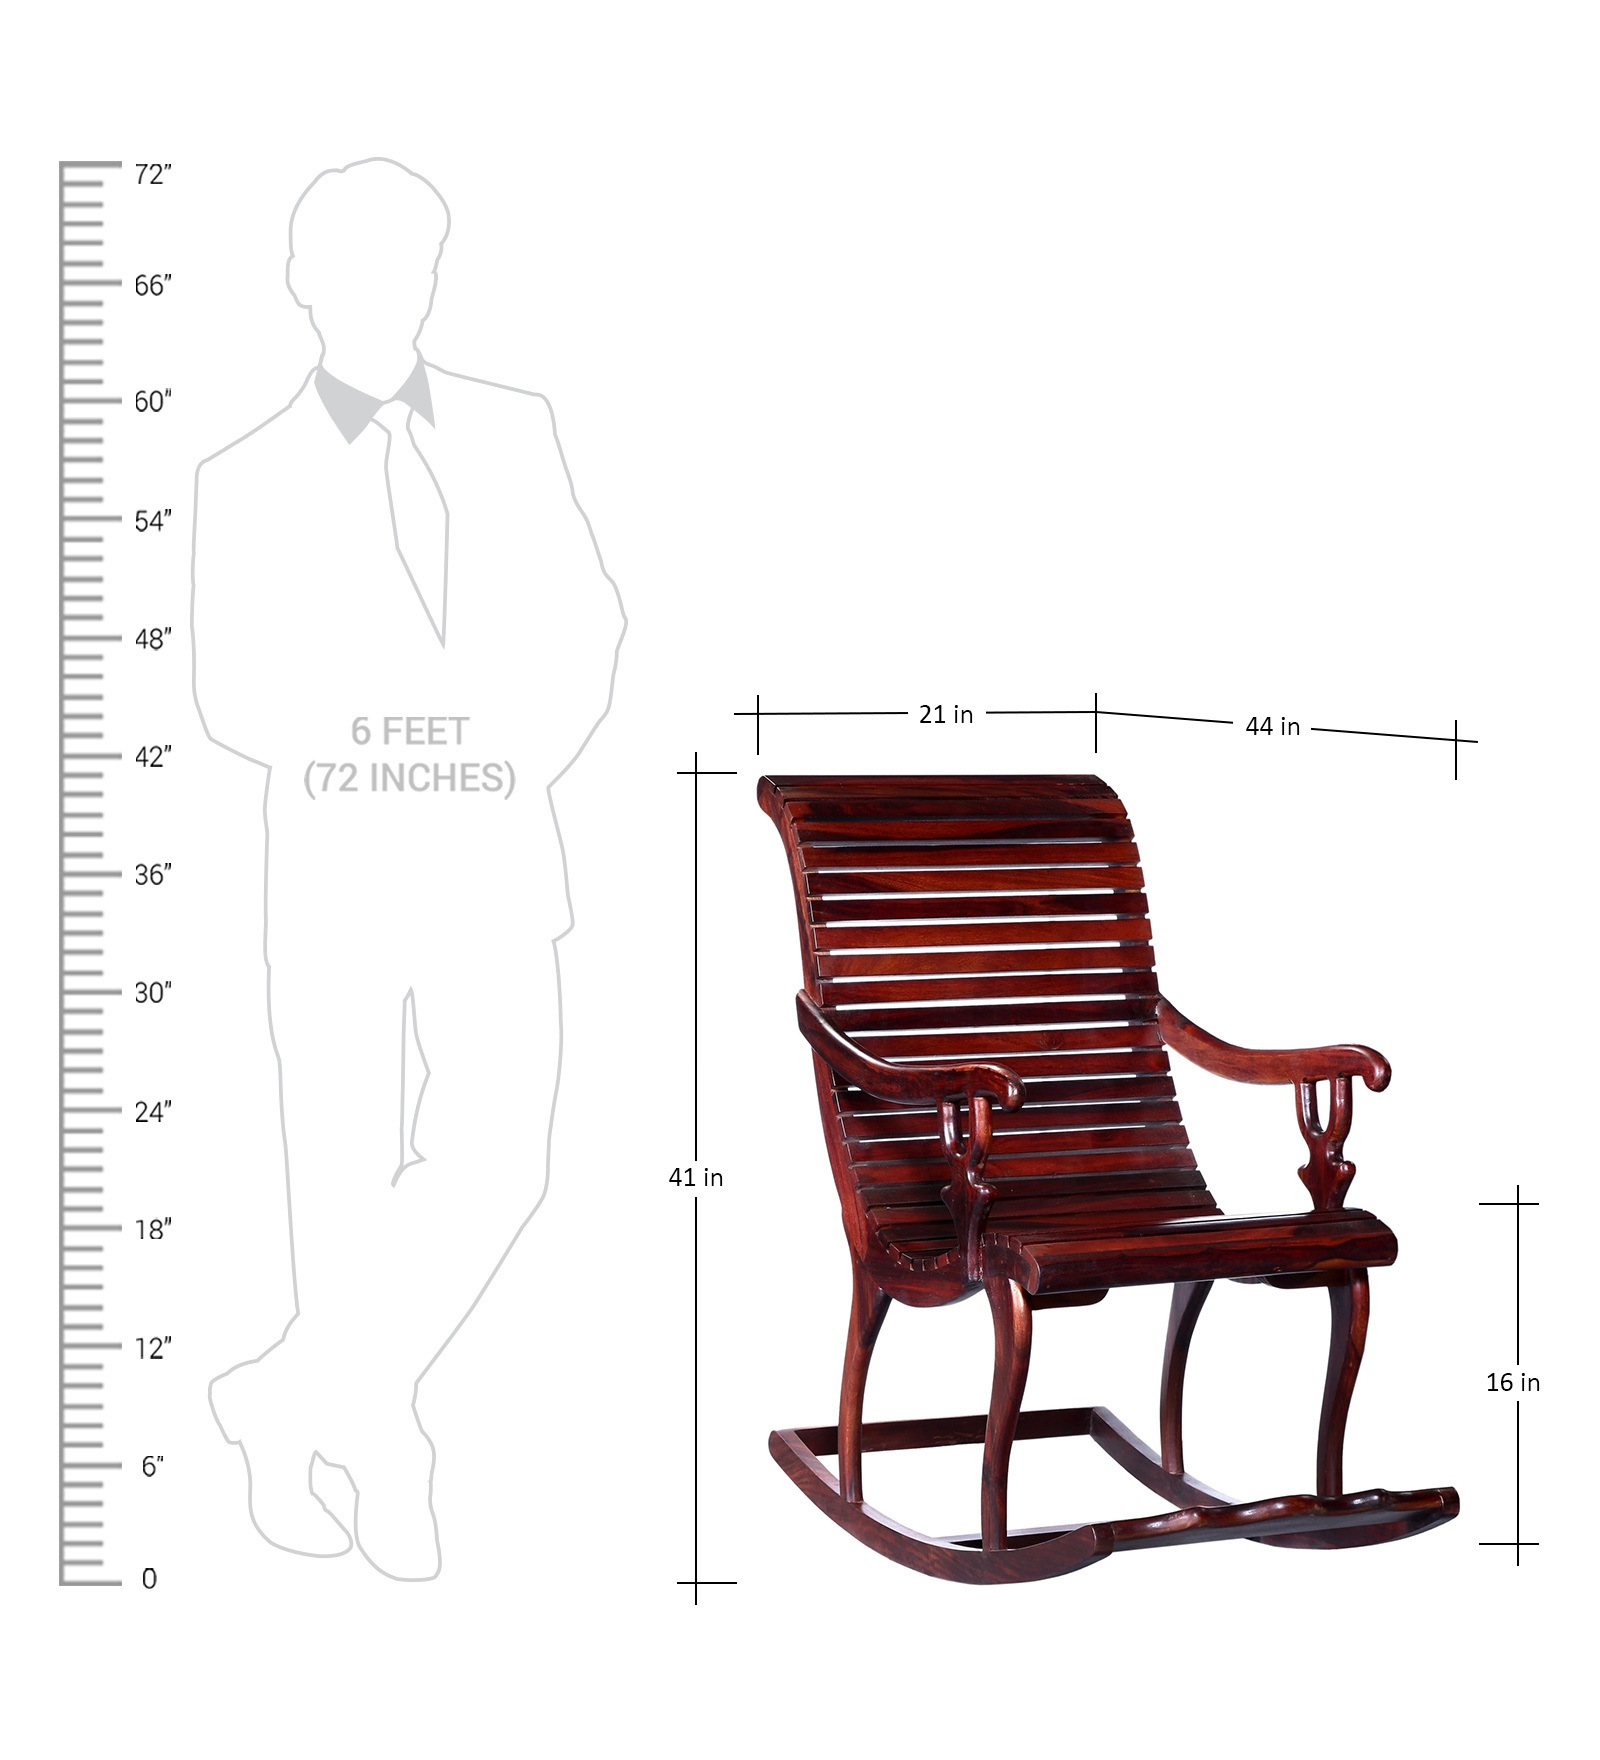Acklom Rocking Chair in Honey Oak Finish by Amberville: (739, 753, 1473, 1617)
